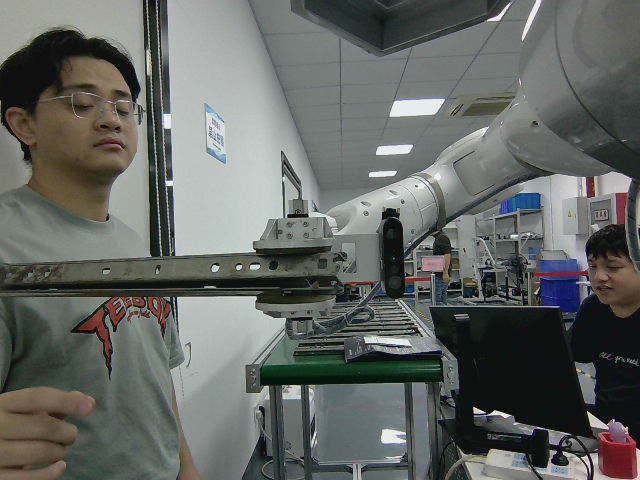right: (2, 251, 347, 301)
